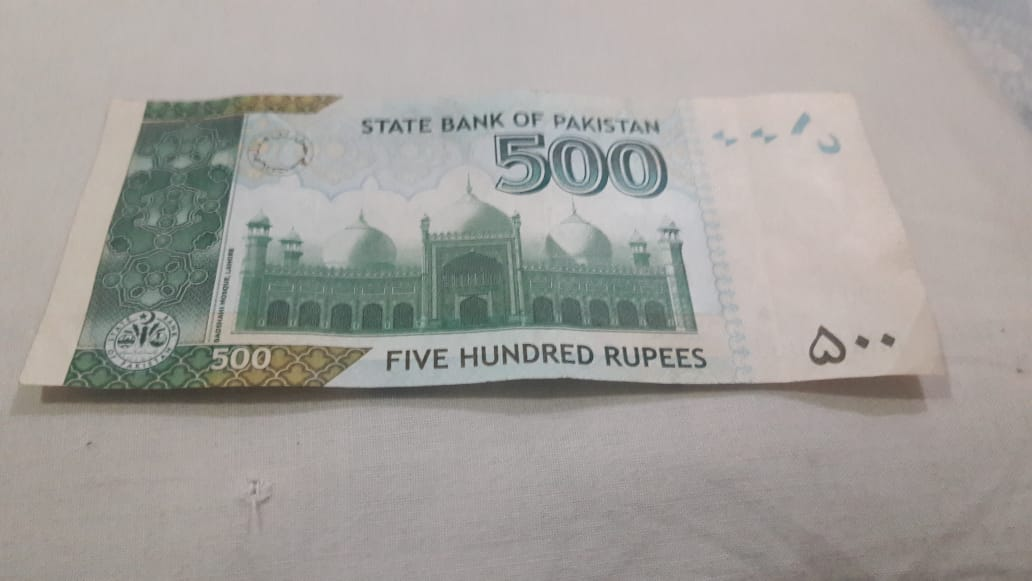500 rupee: (40, 77, 964, 441)
